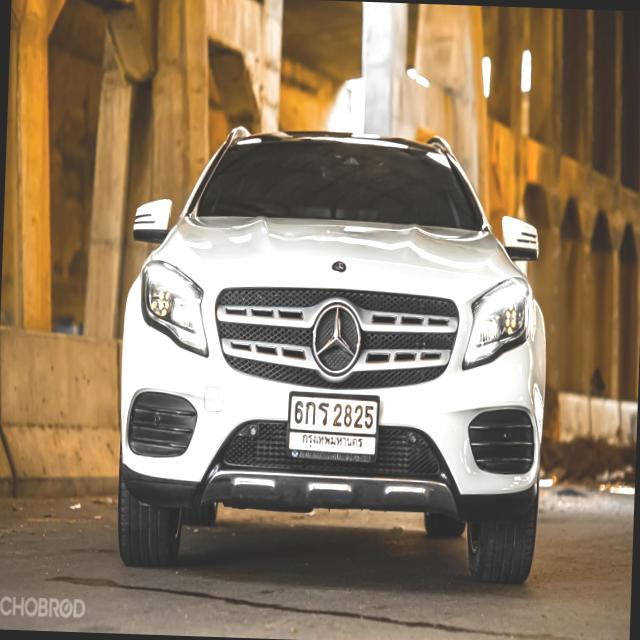license_plate: (287, 388, 380, 456)
